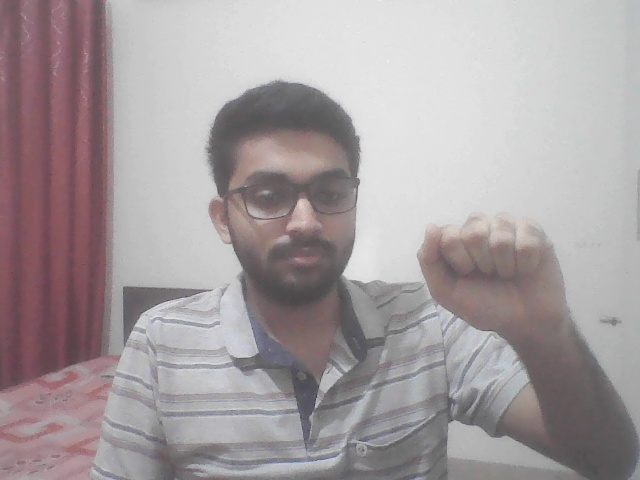yes: (384, 188, 598, 344)
